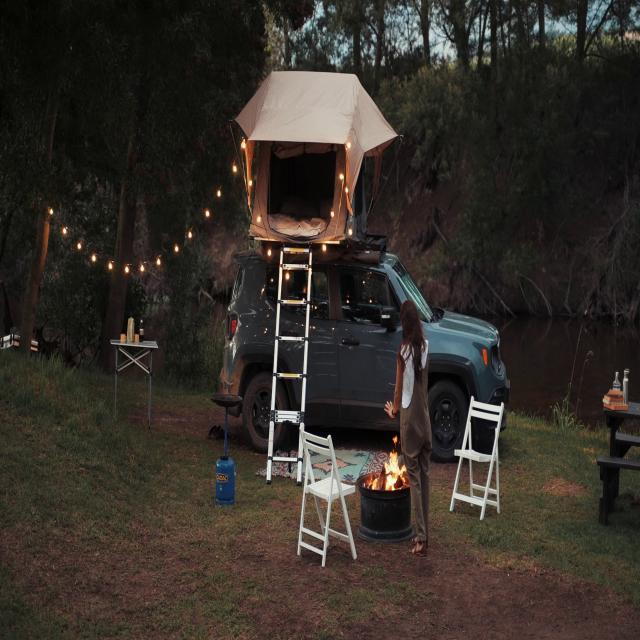Fire: (374, 436, 411, 494)
